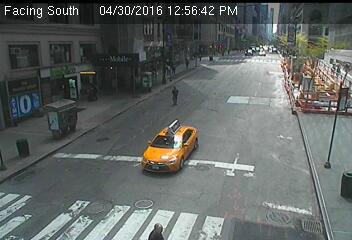neg: (232, 153, 274, 210), (153, 134, 195, 190), (76, 35, 104, 73), (30, 77, 57, 114), (304, 85, 330, 119), (22, 135, 47, 169), (79, 127, 103, 159), (84, 193, 107, 224), (308, 157, 329, 186), (291, 46, 311, 73), (249, 103, 268, 129), (240, 34, 257, 56)
pos: (169, 84, 185, 105), (151, 219, 165, 238)
